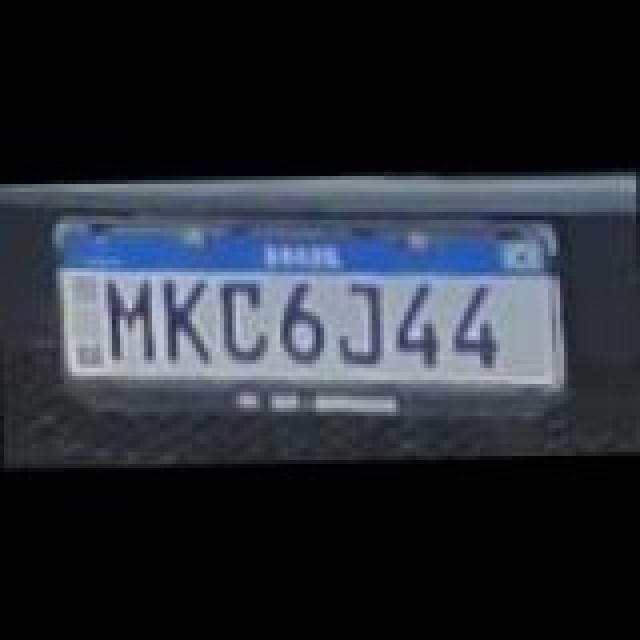4: (390, 282, 442, 366), (450, 282, 502, 366)
6: (276, 276, 332, 360)
C: (220, 278, 276, 362)
J: (336, 280, 392, 364)
K: (160, 272, 216, 360)
M: (102, 276, 162, 364)
